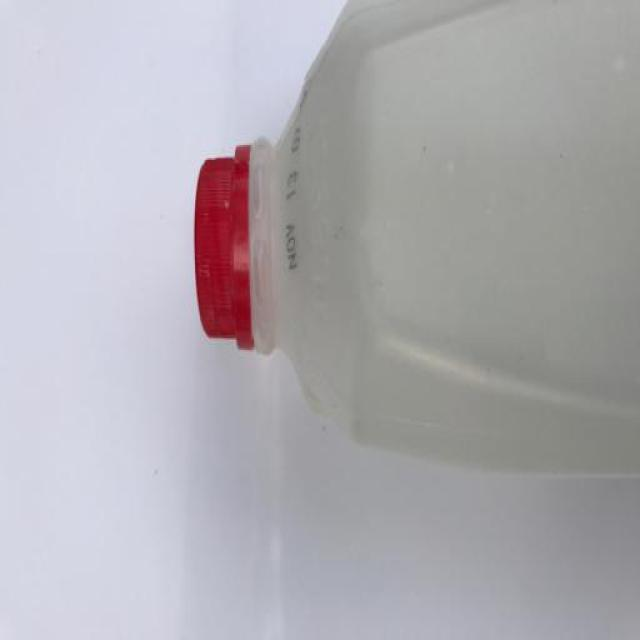plastic: (192, 0, 638, 478)
